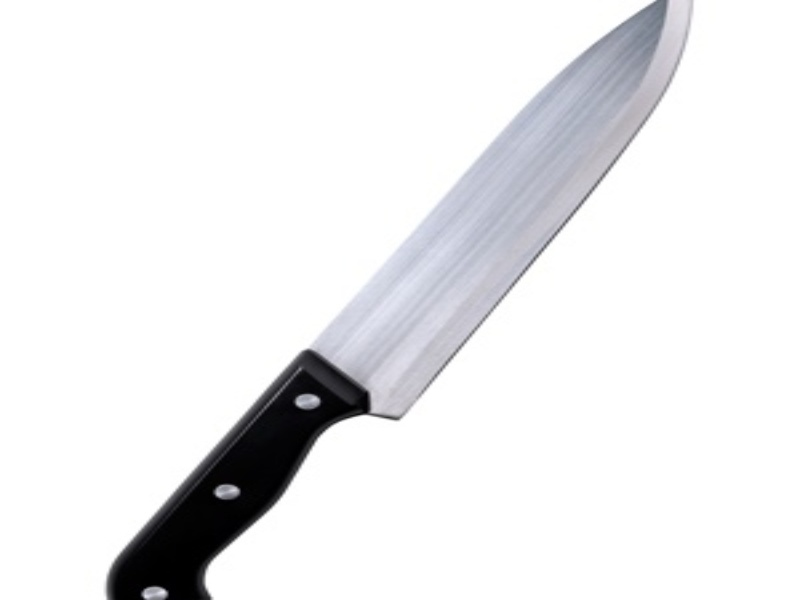knife: (105, 1, 696, 600)
